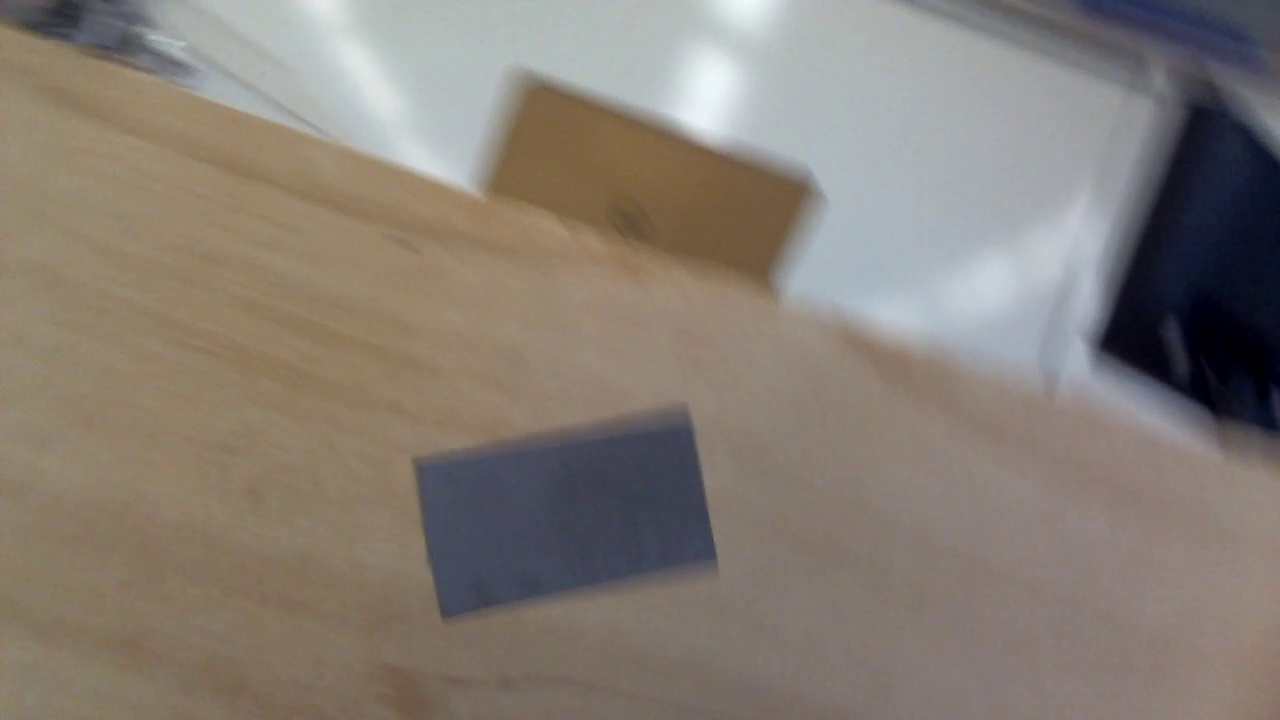Tape: (413, 404, 720, 625)
